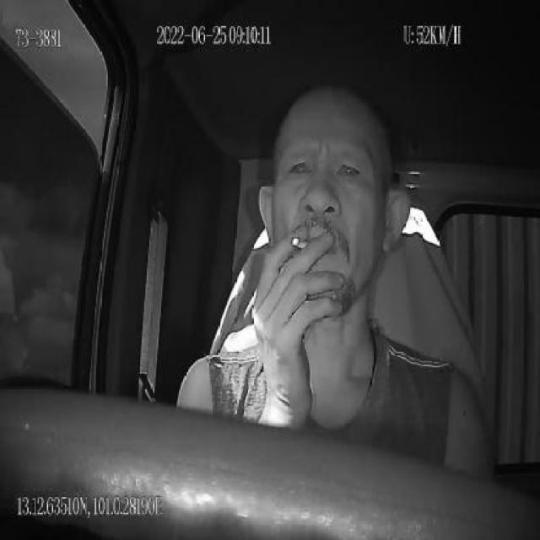smoking: (290, 236, 308, 251)
